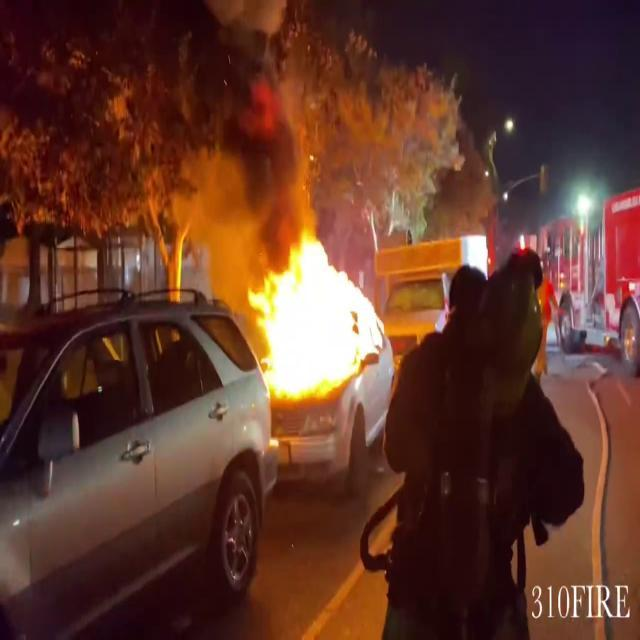Fire: (242, 223, 384, 407)
Smoke: (147, 0, 361, 206)
